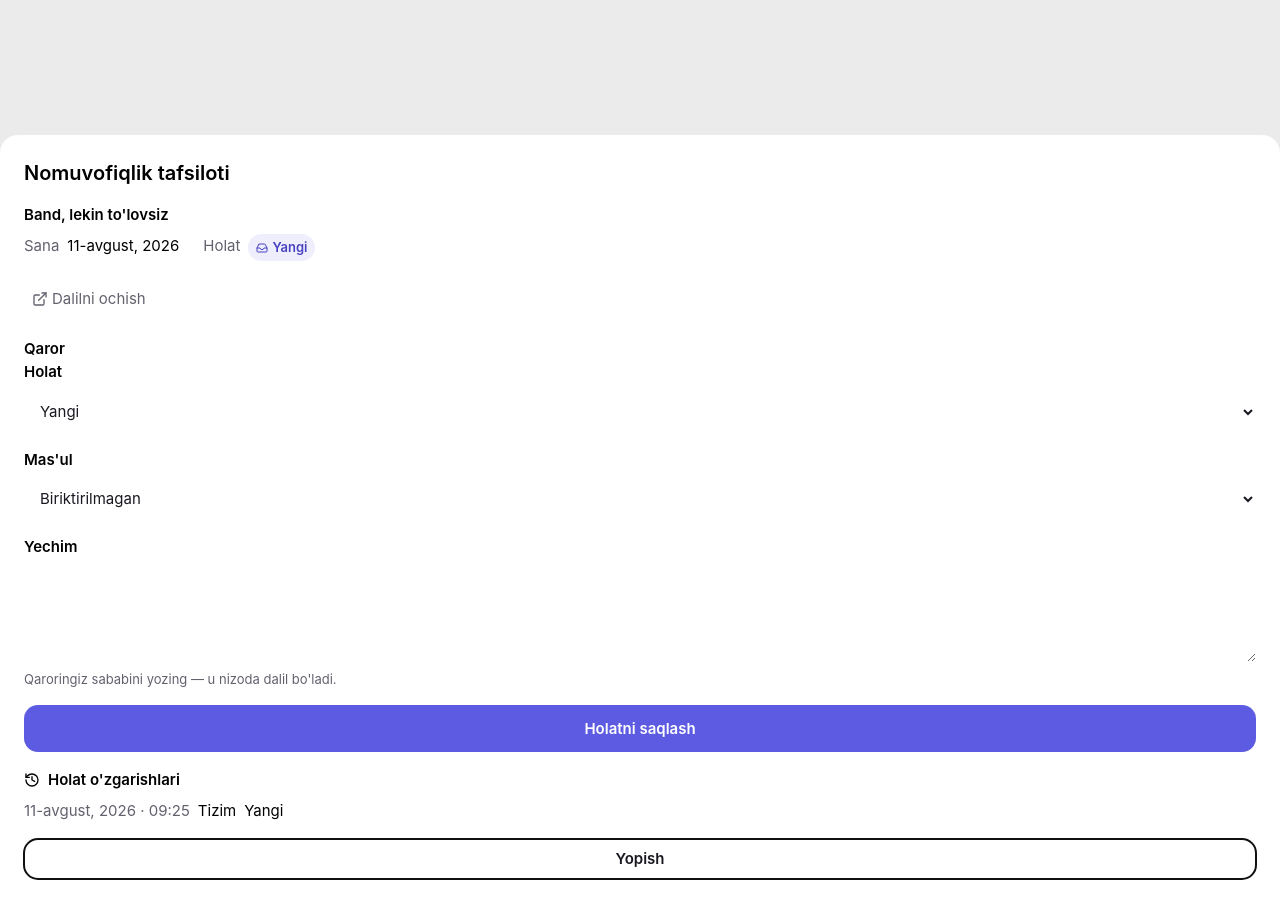
it: ⛔ IKKI REJA CHEGARASI: `assignee_not_in_market` uchidan-uchiga › ⛔ begona bozor xodimini biriktirish NOMLANGAN matn beradi
Select "Ko'rilmoqda" in the dropdown labelled "Holat" at (640, 412), box top-left (24, 392), bottom-right (1256, 432)
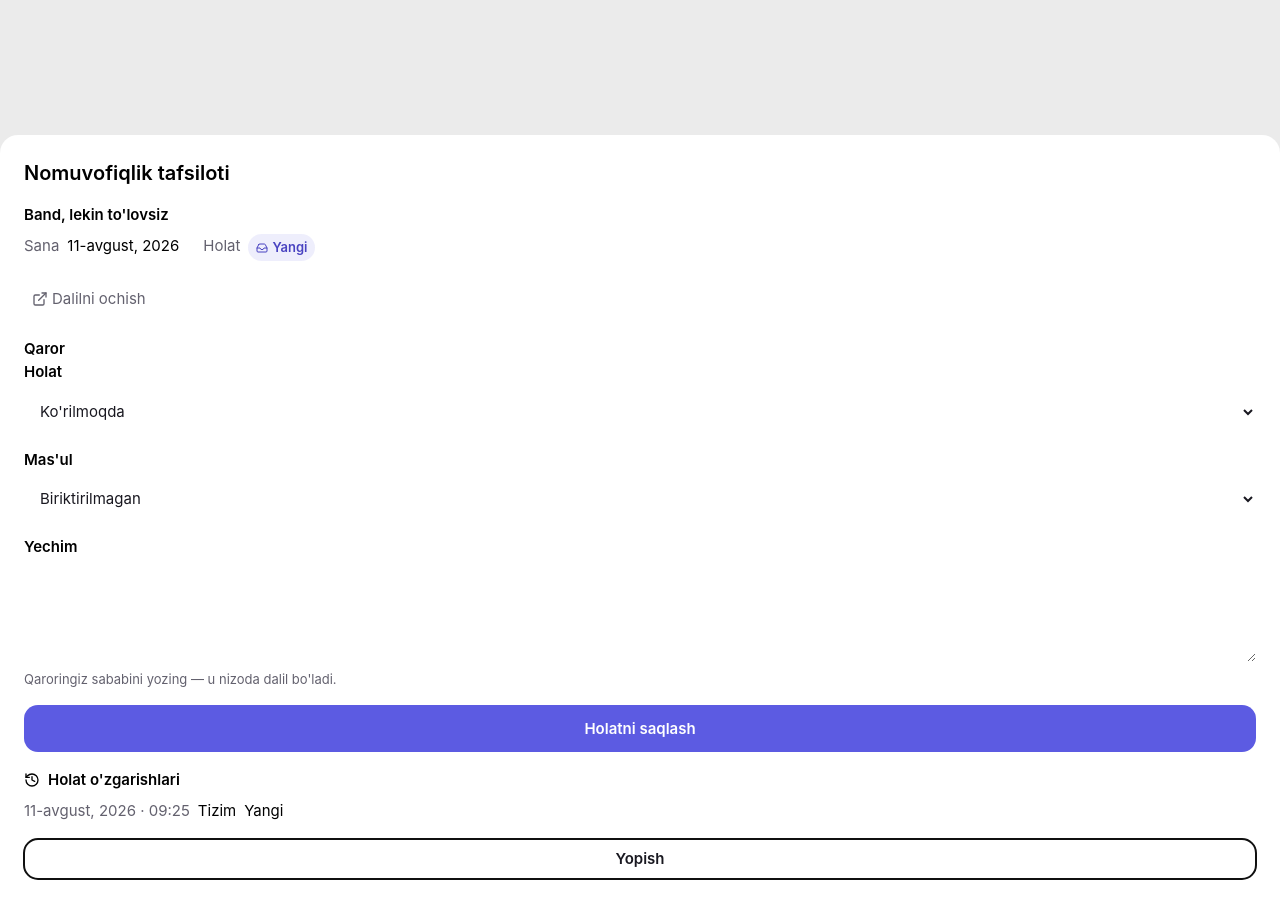
Click the button "Holatni saqlash" at (640, 729), box top-left (24, 705), bottom-right (1256, 752)
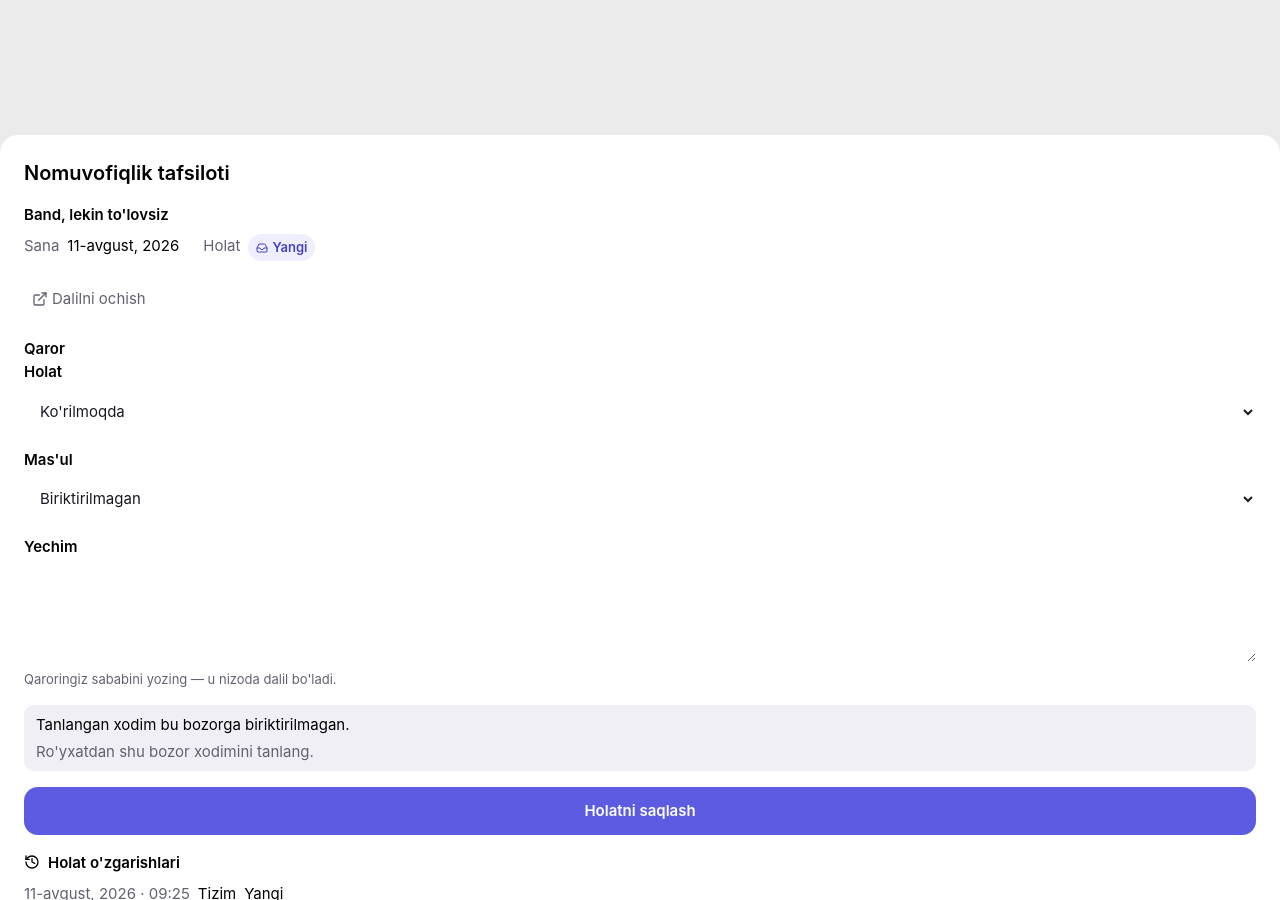
Expected: the message shows "Tanlangan xodim bu bozorga biriktirilmagan.", top-left (36, 715), bottom-right (350, 734)
Expected: the message shows "Ro'yxatdan shu bozor xodimini tanlang.", top-left (36, 742), bottom-right (314, 761)
